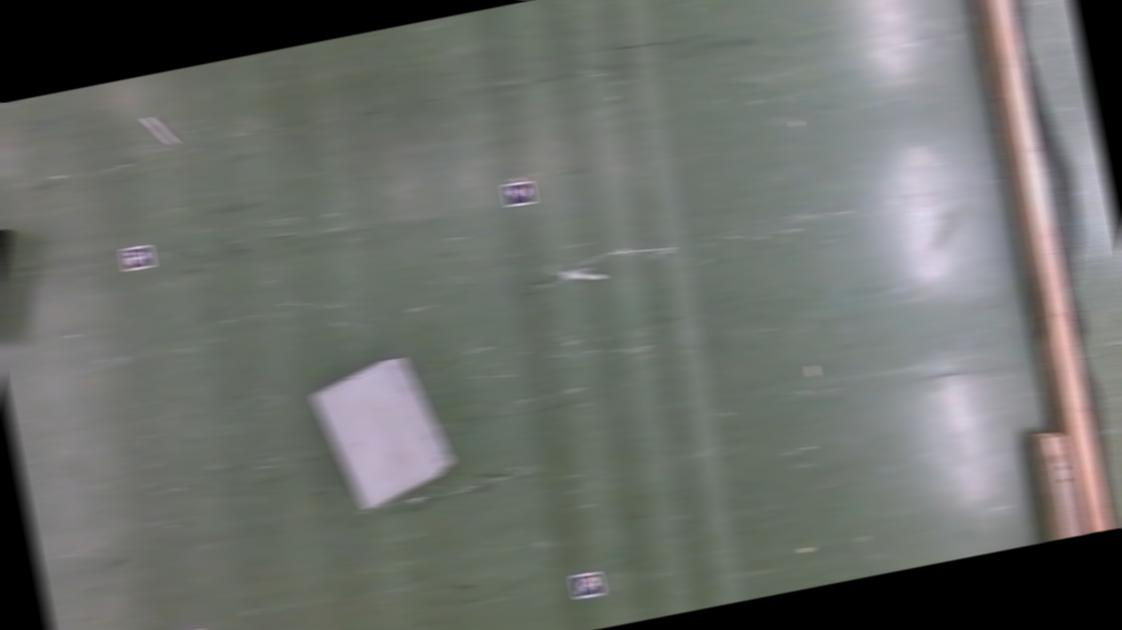probes: (554, 253, 622, 293), (145, 112, 176, 148)
rako: (306, 348, 461, 514), (0, 205, 33, 342)
